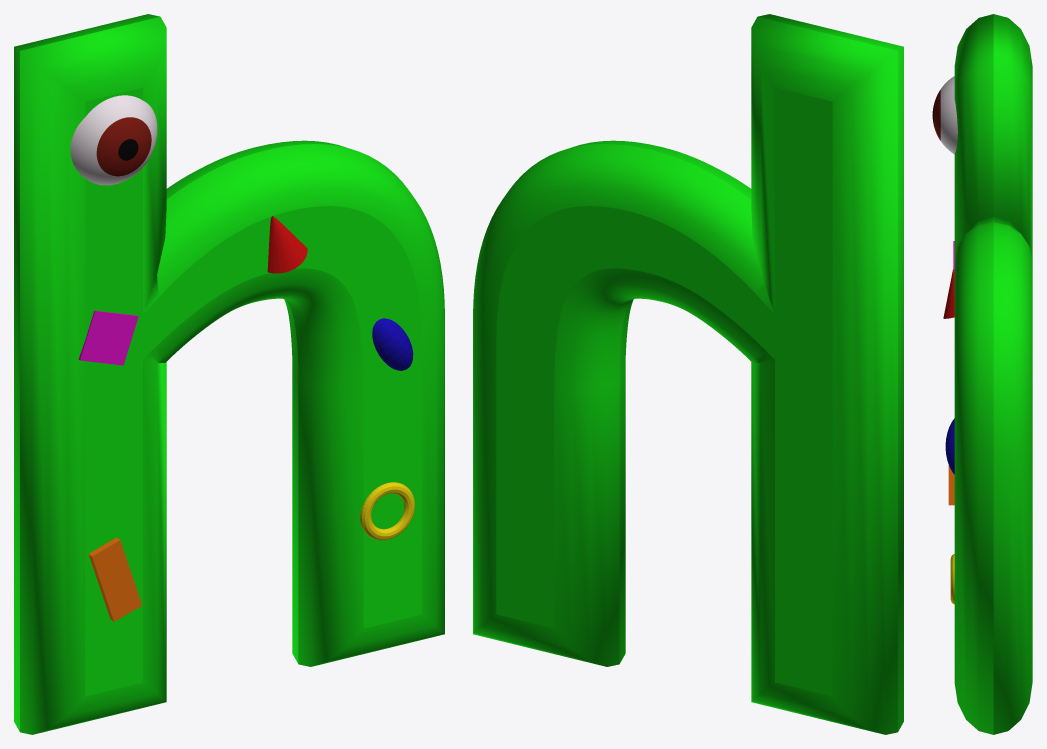
Rendered from h_green.fbx.
The picture shows the model from 3 angles, left to right: view 1: azimuth 30°, elevation 25°; view 2: azimuth 150°, elevation 25°; view 3: azimuth 270°, elevation 25°; orthographic projection. The views are drawn at different scales.
Visible parts, largest first — view 1: Text, Sphere, Cube.001, Cube, Torus, Sphere.002, Cone; view 2: Text; view 3: Text, Sphere, Sphere.002, Cone, Cube.001, Torus.
Boxes of the visible parts, box(x1,y1,x2,y2) form: Text: box(14, 14, 444, 734); Sphere: box(70, 95, 157, 185); Cube.001: box(88, 537, 142, 621); Cube: box(78, 310, 138, 365); Torus: box(360, 482, 414, 540); Sphere.002: box(372, 318, 413, 370); Cone: box(267, 216, 307, 273); Text: box(473, 14, 903, 734); Text: box(954, 14, 1032, 734); Sphere: box(932, 76, 957, 154); Sphere.002: box(945, 418, 954, 474); Cone: box(943, 269, 954, 318); Cube.001: box(948, 465, 954, 505); Torus: box(950, 554, 954, 604).
Size of the model in its own units: 99.91 by 155 by 25.38.
